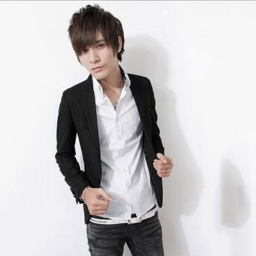face: (67, 5, 128, 81)
